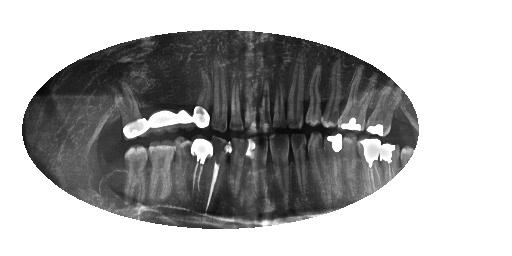i10healthy: (225, 133, 245, 201)
i11decay: (203, 131, 228, 213)
i12healthy: (187, 134, 215, 197)
i13decay: (167, 133, 195, 197)
i14healthy: (146, 139, 178, 203)
i15healthy: (116, 143, 155, 211)
i16loss: (102, 151, 127, 205)
i1healthy: (399, 146, 417, 171)
i2healthy: (378, 141, 401, 181)
i3healthy: (355, 136, 383, 193)
i4healthy: (340, 133, 361, 198)
i5healthy: (323, 131, 347, 200)
i6healthy: (303, 129, 329, 201)
i7decay: (289, 129, 311, 198)
i8decay: (266, 132, 294, 205)
i9decay: (245, 133, 269, 201)
u10healthy: (227, 70, 247, 135)
u11healthy: (208, 60, 231, 133)
u12healthy: (190, 64, 214, 131)
u13loss: (170, 66, 196, 131)
u14loss: (136, 67, 178, 137)
u15healthy: (109, 77, 152, 144)
u16loss: (89, 95, 124, 142)
u1loss: (395, 96, 415, 140)
u2healthy: (365, 70, 403, 139)
u3healthy: (335, 57, 382, 134)
u4chipped: (321, 49, 345, 132)
u5chipped: (303, 57, 324, 128)
u6healthy: (282, 52, 309, 128)
u7decay: (270, 67, 289, 131)
u8decay: (255, 73, 276, 133)
u9healthy: (242, 72, 260, 135)
